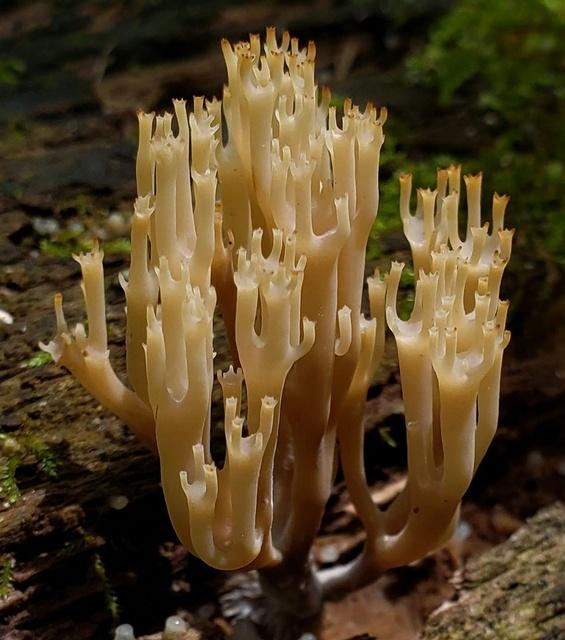edible_mushroom: (39, 24, 516, 607)
